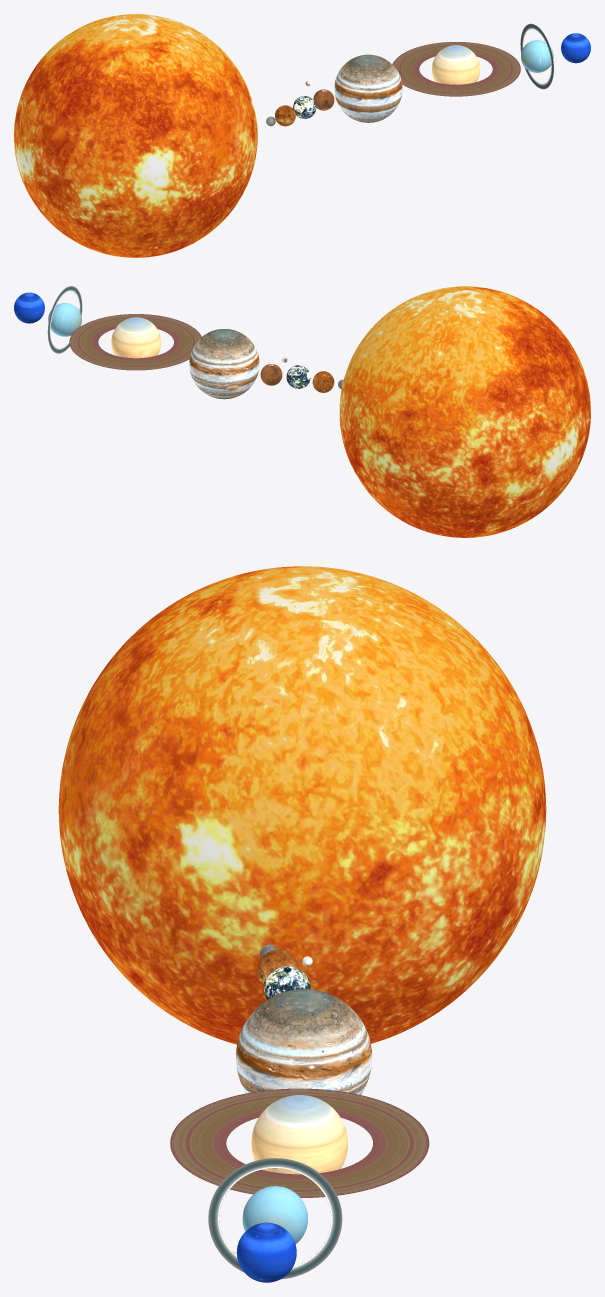
Rendered from solar_system.glb.
3 views of the same model, one above another, from view 1: azimuth 30°, elevation 25°; view 2: azimuth 150°, elevation 25°; view 3: azimuth 270°, elevation 25° (orthographic). The views are drawn at different scales.
Parts seen in each view (by area): view 1: node_id30, node_id67, node_id75, node_id73, node_id82, node_id91, node_id84, node_id49, node_id61, node_id42; view 2: node_id30, node_id67, node_id75, node_id73, node_id82, node_id91, node_id84, node_id49, node_id61, node_id42; view 3: node_id30, node_id75, node_id67, node_id73, node_id84, node_id91, node_id82, node_id49.
Boxes of the visible parts, left/top/right/bottom form: node_id30: left=14, top=14, right=257, bottom=257; node_id67: left=334, top=54, right=402, bottom=122; node_id75: left=392, top=42, right=520, bottom=96; node_id73: left=432, top=45, right=480, bottom=84; node_id82: left=521, top=40, right=553, bottom=72; node_id91: left=561, top=33, right=590, bottom=63; node_id84: left=520, top=23, right=553, bottom=89; node_id49: left=293, top=96, right=316, bottom=119; node_id61: left=313, top=89, right=334, bottom=110; node_id42: left=275, top=105, right=295, bottom=126; node_id30: left=339, top=286, right=590, bottom=537; node_id67: left=189, top=329, right=259, bottom=399; node_id75: left=69, top=314, right=201, bottom=370; node_id73: left=111, top=317, right=161, bottom=358; node_id82: left=48, top=303, right=81, bottom=336; node_id91: left=14, top=292, right=44, bottom=323; node_id84: left=47, top=286, right=82, bottom=353; node_id49: left=286, top=365, right=310, bottom=389; node_id61: left=260, top=364, right=282, bottom=385; node_id42: left=312, top=371, right=334, bottom=392; node_id30: left=58, top=566, right=546, bottom=1044; node_id75: left=170, top=1088, right=429, bottom=1197; node_id67: left=236, top=989, right=372, bottom=1094; node_id73: left=251, top=1095, right=347, bottom=1174; node_id84: left=208, top=1158, right=342, bottom=1279; node_id91: left=236, top=1222, right=296, bottom=1282; node_id82: left=242, top=1186, right=307, bottom=1243; node_id49: left=264, top=966, right=310, bottom=999.
Size of the model in its own units: 0.00973 by 0.00374 by 0.00374.
Materials: 12 (12 with a texture image).
